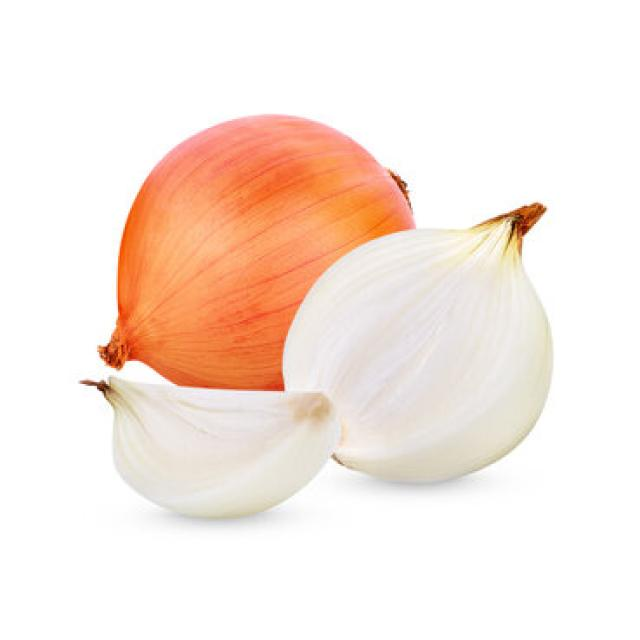Onion: (96, 112, 417, 391), (280, 199, 554, 484), (78, 372, 340, 519)
